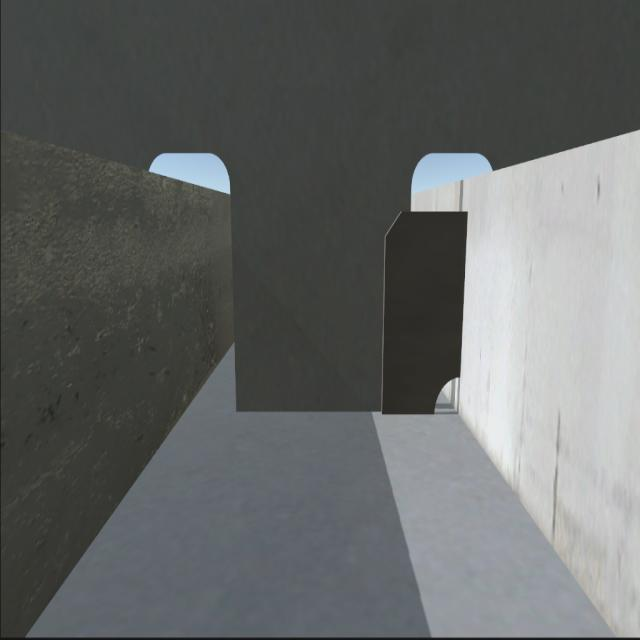fillet_hole: (433, 374, 461, 417)
fillet_yong_jeop_jang: (234, 403, 439, 419)
longi_yong_jeop_jang: (456, 210, 474, 371)
plate_CP03: (381, 207, 464, 404)
